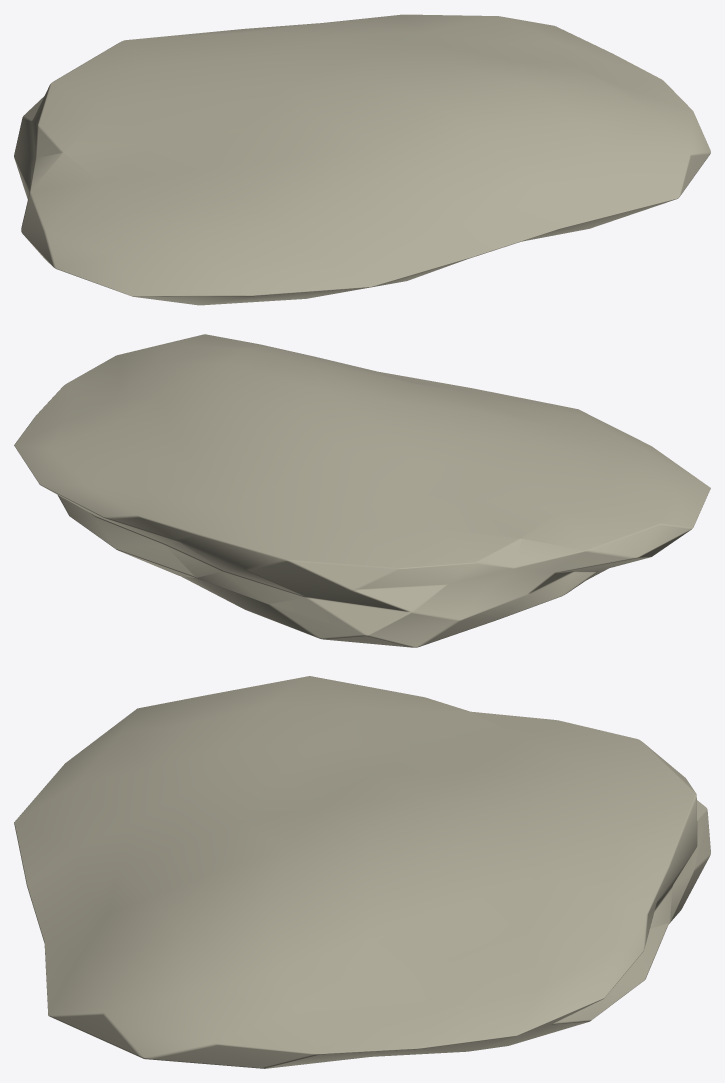
File: stepping-stone-060.glb
The picture shows the model from 3 angles, top to bottom: view 1: azimuth 30°, elevation 25°; view 2: azimuth 150°, elevation 25°; view 3: azimuth 270°, elevation 25°; orthographic projection. The views are drawn at different scales.
Visible parts, largest first — view 1: stepping-stone-060 / N02 / pale stone strata; view 2: stepping-stone-060 / N02 / pale stone strata; view 3: stepping-stone-060 / N02 / pale stone strata.
Boxes of the visible parts, x1=… form: stepping-stone-060 / N02 / pale stone strata: x1=14, y1=14, x2=710, y2=305; stepping-stone-060 / N02 / pale stone strata: x1=14, y1=334, x2=710, y2=647; stepping-stone-060 / N02 / pale stone strata: x1=14, y1=676, x2=710, y2=1068.
Bounding box in the file's own units: 0.6441 × 0.0983 × 0.4976.
